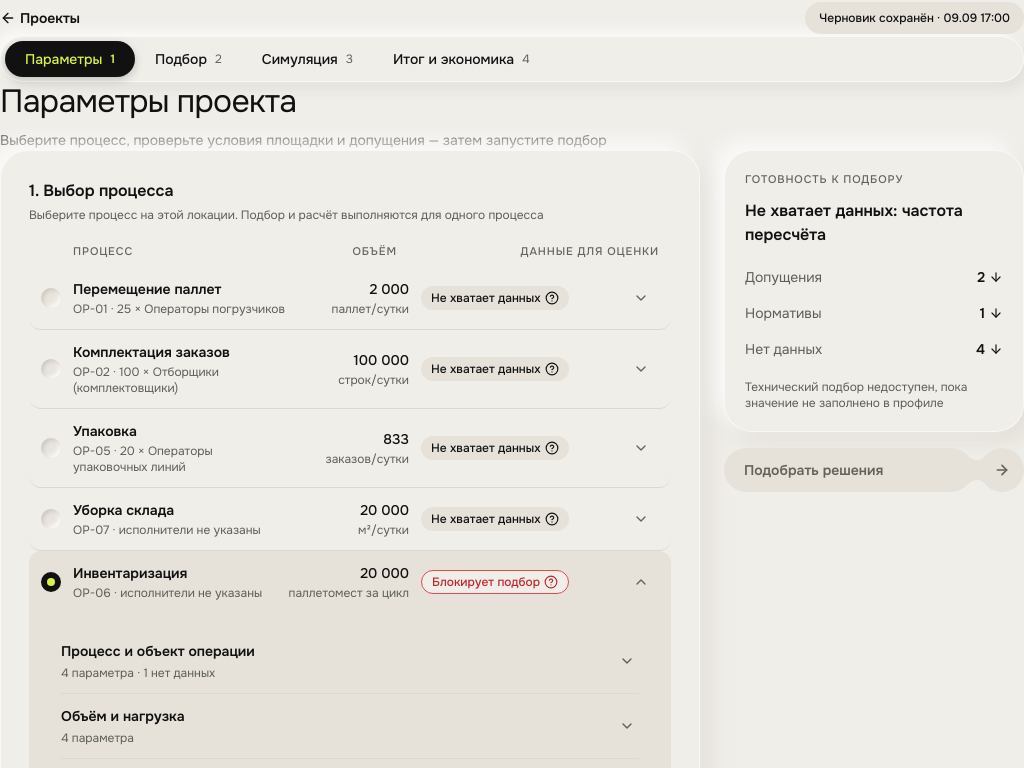
Test: Шаг 1 «Параметры проекта» (доска 16325, экран 1.1; PRD 11.2) › инвентаризация PJ-07: подбор недоступен, красный чип и путь в профиль процесса
Expected: the heading "1. Выбор процесса" is shown, [29,180,174,201]
Expected: the button "Подобрать решения" is disabled, [724,448,1023,492]
Step 1. Click the button with aria-label "Блокирует подбор: Инвентаризация" → [495, 582], box [421,570,569,594]
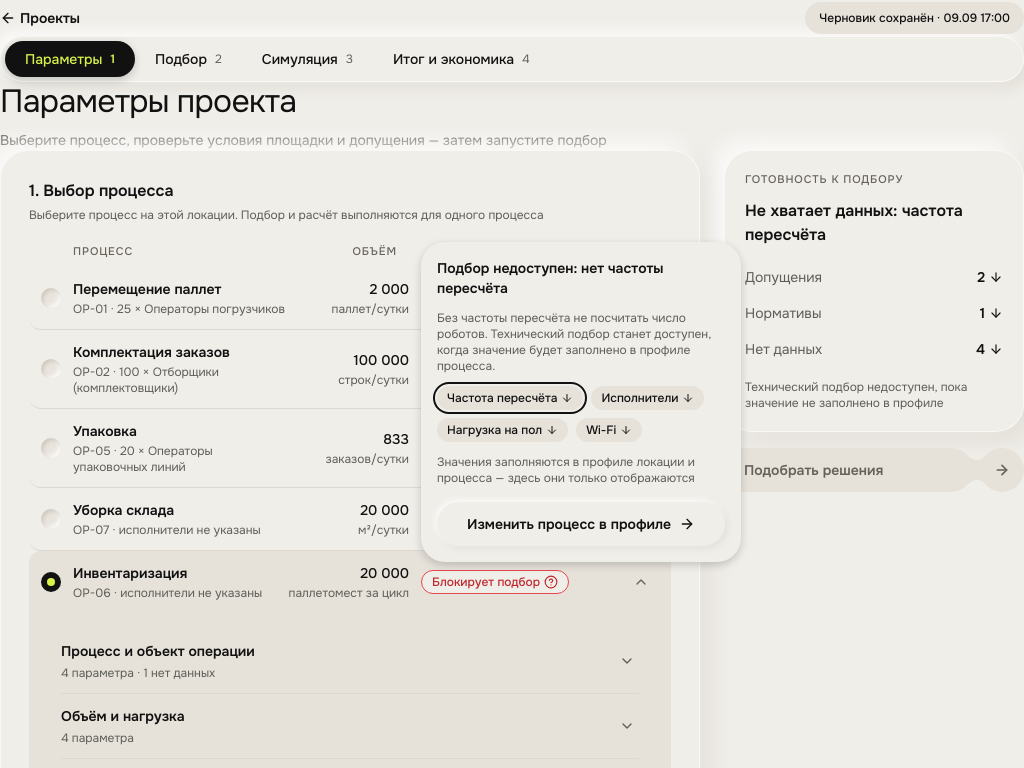
Now the text "Без частоты пересчёта не посчитать число роботов" is shown, box [437,310,711,374]
